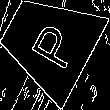P_NW: (19, 14, 78, 71)
